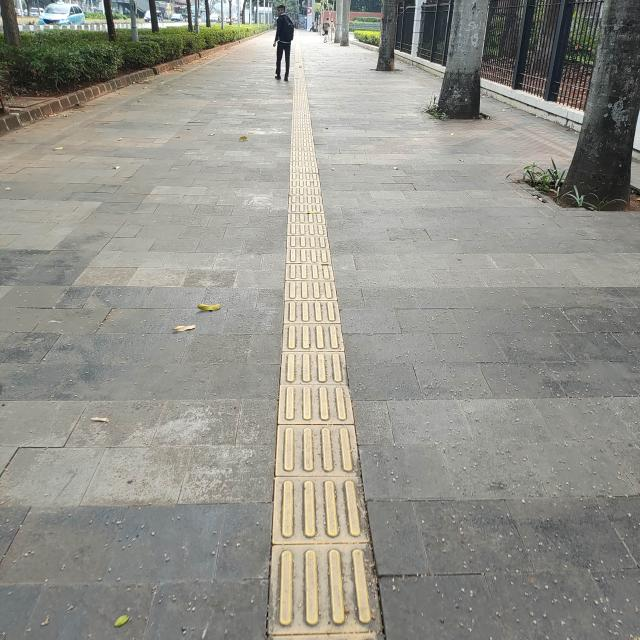lurus: (264, 96, 386, 640)
